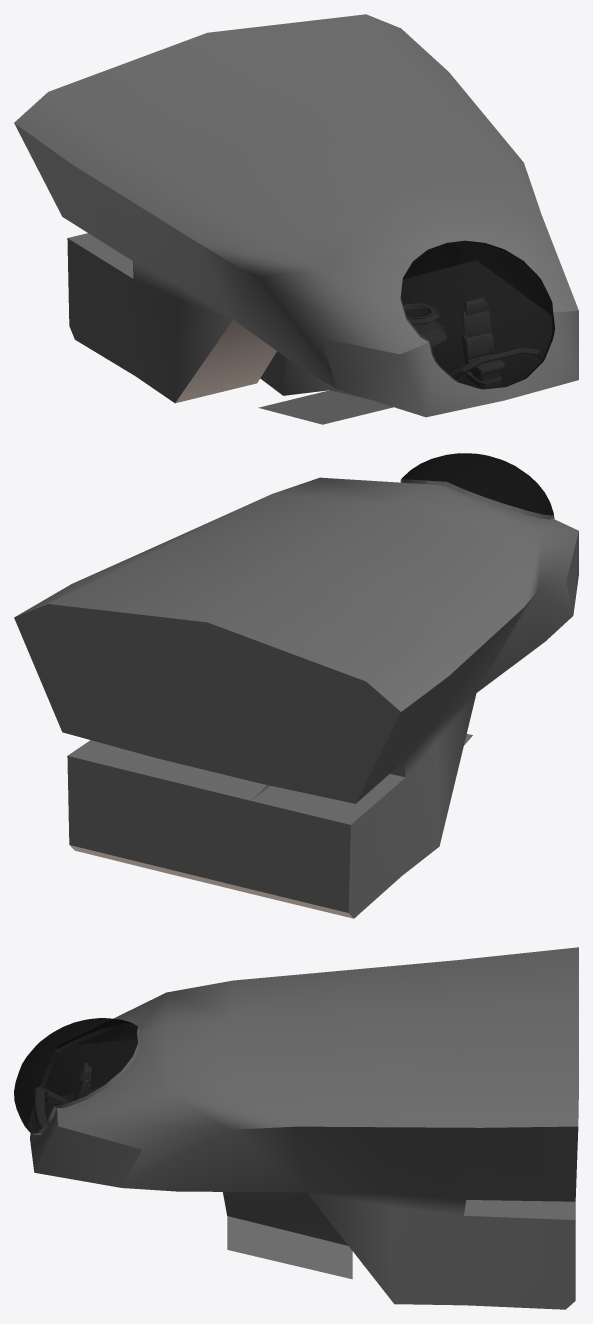
File: halenShipInterior.fbx
3 views of the same model, one above another, from view 1: azimuth 30°, elevation 25°; view 2: azimuth 150°, elevation 25°; view 3: azimuth 270°, elevation 25° (orthographic). The views are drawn at different scales.
Visible parts, largest first — view 1: interior, chair1, holoprojector, control_panel; view 2: interior; view 3: interior, control_panel.
Boxes of the visible parts, x1,y1,x2,y2 form: interior: [14, 14, 578, 424]; chair1: [461, 298, 504, 388]; holoprojector: [404, 303, 446, 346]; control_panel: [449, 348, 543, 379]; interior: [14, 453, 578, 918]; interior: [14, 947, 578, 1309]; control_panel: [34, 1086, 66, 1128].
Size of the model in its own units: 0.7051 by 0.466 by 0.966.
